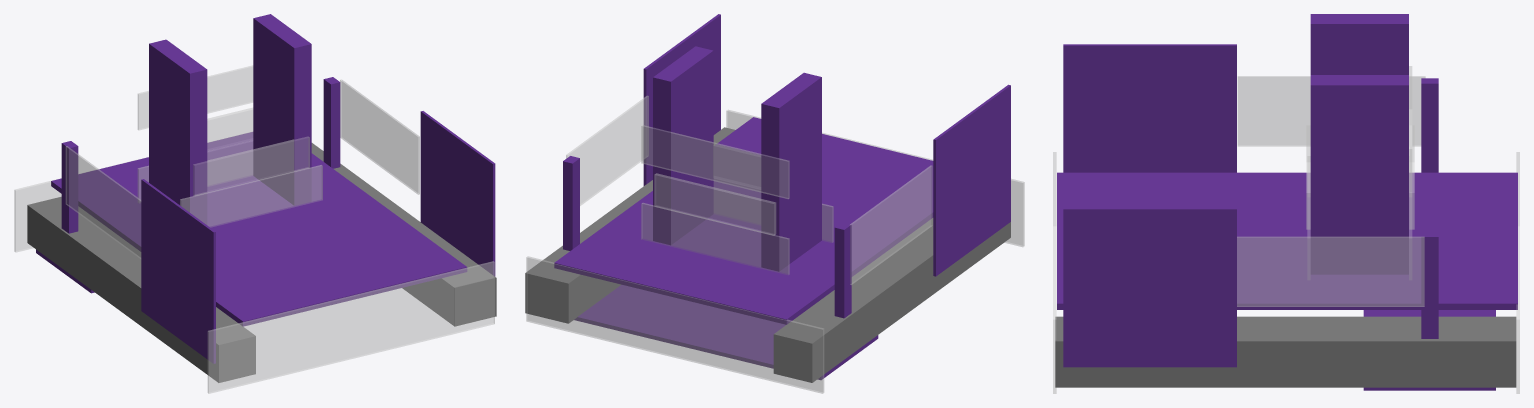
The model's file is Chassis 2.dae.
The picture shows the model from 3 angles, left to right: view 1: azimuth 30°, elevation 25°; view 2: azimuth 150°, elevation 25°; view 3: azimuth 270°, elevation 25°; orthographic projection. The views are drawn at different scales.
Visible parts, largest first — view 1: Cube.011, Cube.009, Cube.001, Cube.002, Cube.012, Cube.013, Cube.003, Cube, Cube.007, Cube.014, Cube.006, Cube.018 (+6 smaller); view 2: Cube.011, Cube.008, Cube.001, Cube.002, Cube.013, Cube.012, Cube.010, Cube.016, Cube.015, Cube.006, Cube, Cube.007 (+7 smaller); view 3: Cube.011, Cube.003, Cube, Cube.002, Cube.012, Cube.007, Cube.006, Cube.013, Cube.005, Cube.004, Cube.010, Cube.009 (+4 smaller).
Part boxes in pixels (left/top/right/bottom): Cube.011: left=51, top=132, right=467, bottom=326; Cube.009: left=207, top=261, right=494, bottom=393; Cube.001: left=27, top=196, right=255, bottom=382; Cube.002: left=141, top=179, right=215, bottom=363; Cube.012: left=253, top=14, right=311, bottom=205; Cube.013: left=149, top=39, right=207, bottom=224; Cube.003: left=420, top=111, right=495, bottom=276; Cube: left=311, top=143, right=496, bottom=326; Cube.007: left=340, top=79, right=419, bottom=194; Cube.014: left=180, top=165, right=322, bottom=227; Cube.006: left=65, top=146, right=141, bottom=258; Cube.018: left=193, top=136, right=309, bottom=195; Cube.011: left=554, top=117, right=933, bottom=324; Cube.008: left=526, top=256, right=824, bottom=393; Cube.001: left=773, top=218, right=1010, bottom=382; Cube.002: left=933, top=84, right=1010, bottom=276; Cube.013: left=761, top=72, right=821, bottom=271; Cube.012: left=653, top=46, right=713, bottom=245; Cube.010: left=574, top=285, right=878, bottom=379; Cube.016: left=641, top=125, right=789, bottom=198; Cube.015: left=641, top=203, right=789, bottom=274; Cube.006: left=850, top=165, right=932, bottom=284; Cube: left=525, top=127, right=735, bottom=323; Cube.007: left=566, top=95, right=648, bottom=205; Cube.011: left=1057, top=172, right=1517, bottom=309; Cube.003: left=1063, top=208, right=1236, bottom=367; Cube: left=1055, top=316, right=1516, bottom=387; Cube.002: left=1063, top=44, right=1236, bottom=172; Cube.012: left=1310, top=75, right=1408, bottom=274; Cube.007: left=1237, top=236, right=1424, bottom=306; Cube.006: left=1237, top=76, right=1425, bottom=146; Cube.013: left=1310, top=14, right=1408, bottom=74; Cube.005: left=1421, top=231, right=1438, bottom=338; Cube.004: left=1421, top=78, right=1438, bottom=172; Cube.010: left=1363, top=310, right=1495, bottom=390; Cube.009: left=1053, top=152, right=1056, bottom=393.
Size of the model in its own units: 0.3571 by 0.4138 by 0.2583.
